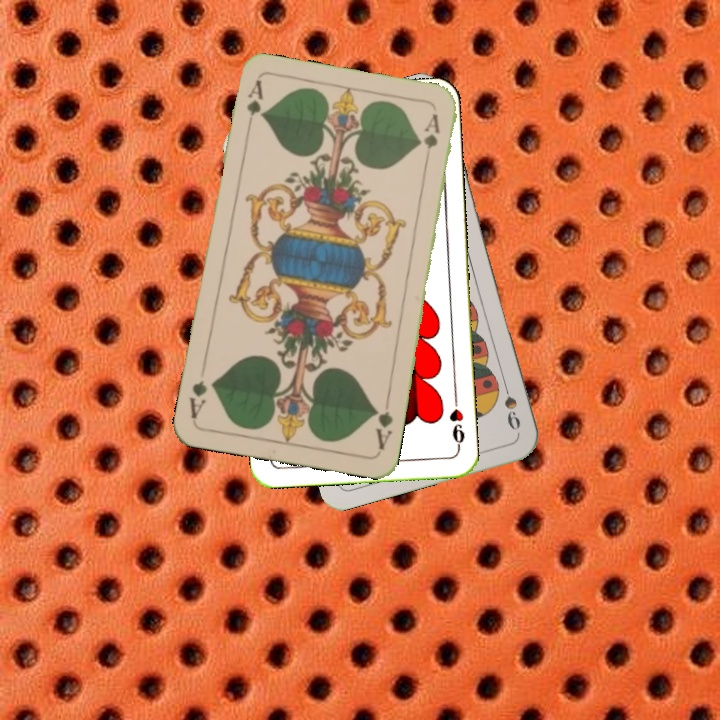GA: (370, 394, 396, 452), (242, 77, 265, 136)
H9: (446, 393, 467, 452)
S9: (498, 376, 523, 433)
